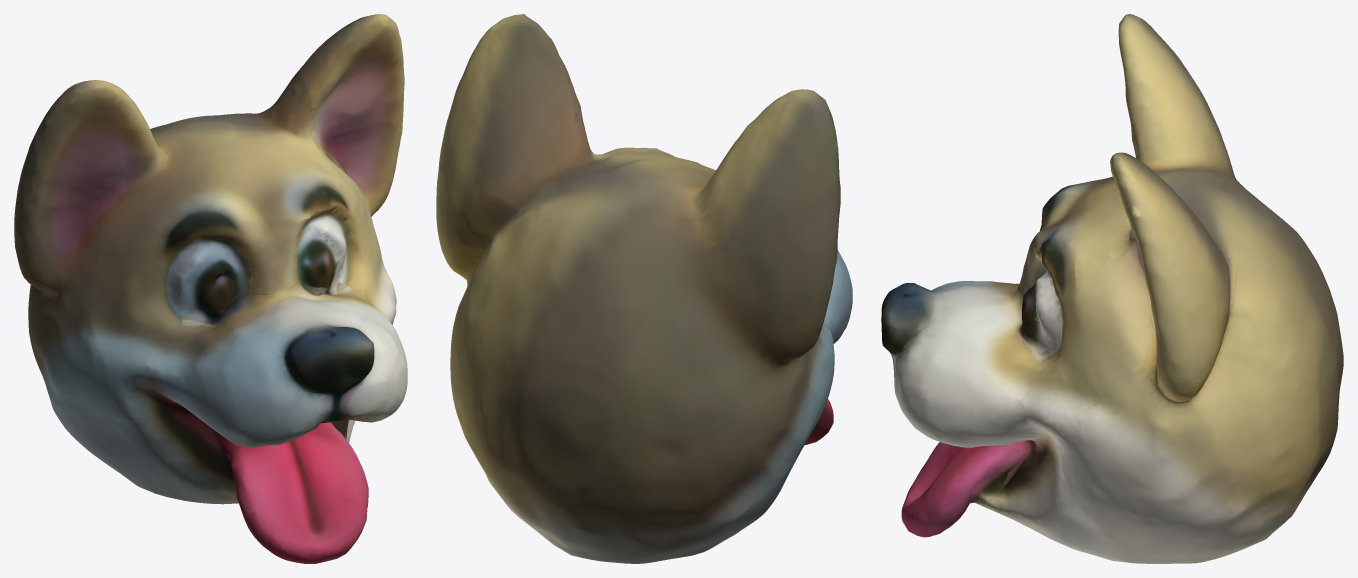
The model's file is cartoon-dog-head.glb.
3 renders of one model, left to right at view 1: azimuth 30°, elevation 25°; view 2: azimuth 150°, elevation 25°; view 3: azimuth 270°, elevation 25°, orthographic. The views are drawn at different scales.
Bounding box in the file's own units: 1.06 × 1.2 × 1.1.
Materials: 1 (1 with a texture image).
